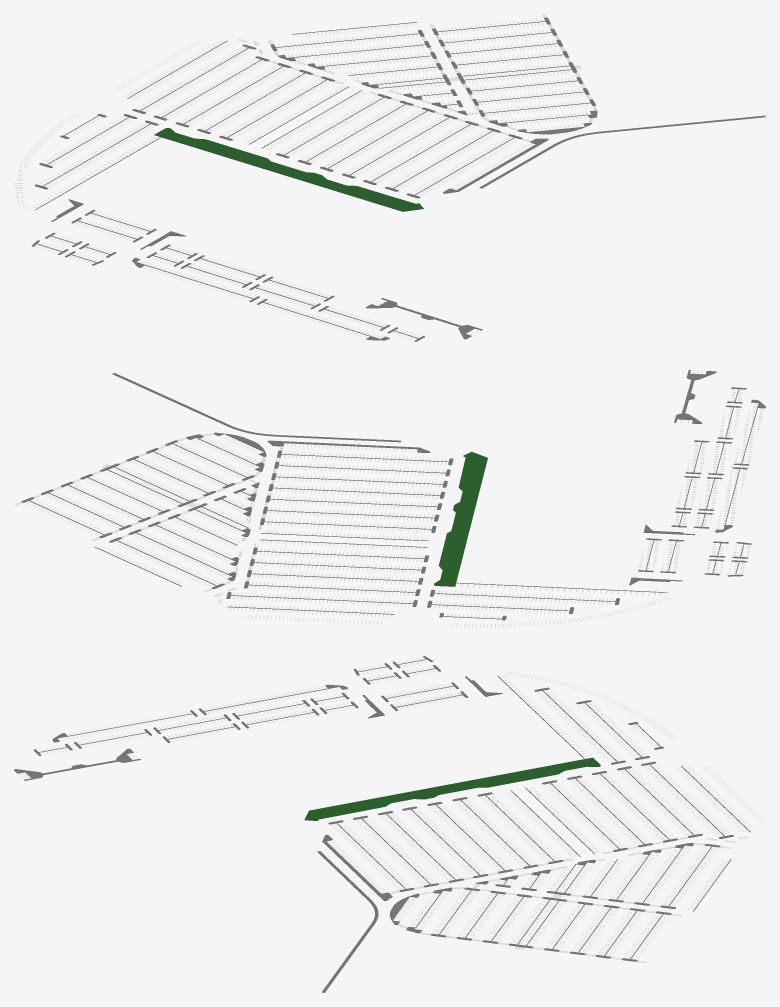
The picture shows the model from 3 angles, top to bottom: view 1: azimuth 30°, elevation 25°; view 2: azimuth 150°, elevation 25°; view 3: azimuth 270°, elevation 25°; orthographic projection.
Parts seen in each view (by area): view 1: Object001; view 2: Object001; view 3: Object001.
Part boxes in pixels (x1,y1,x2,y2): Object001: (14, 14, 765, 341); Object001: (14, 370, 765, 627); Object001: (14, 656, 764, 992).
Size of the model in its own units: 3.69 by 0.00361 by 3.48.
